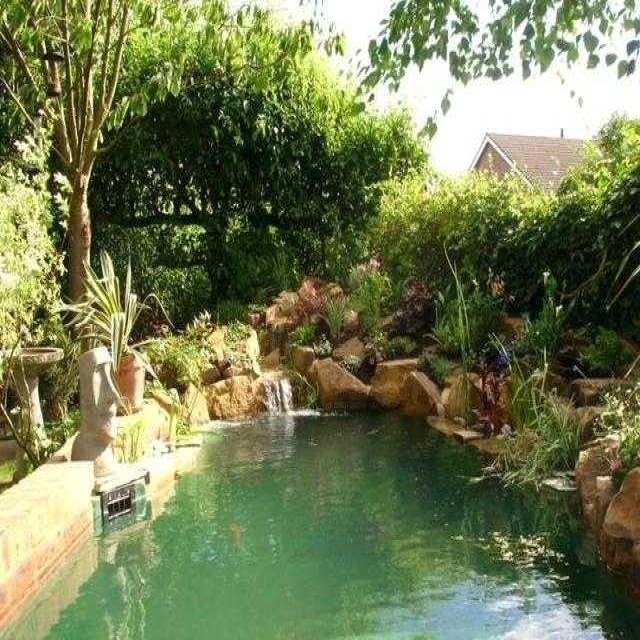Ponds: (3, 275, 640, 637)
